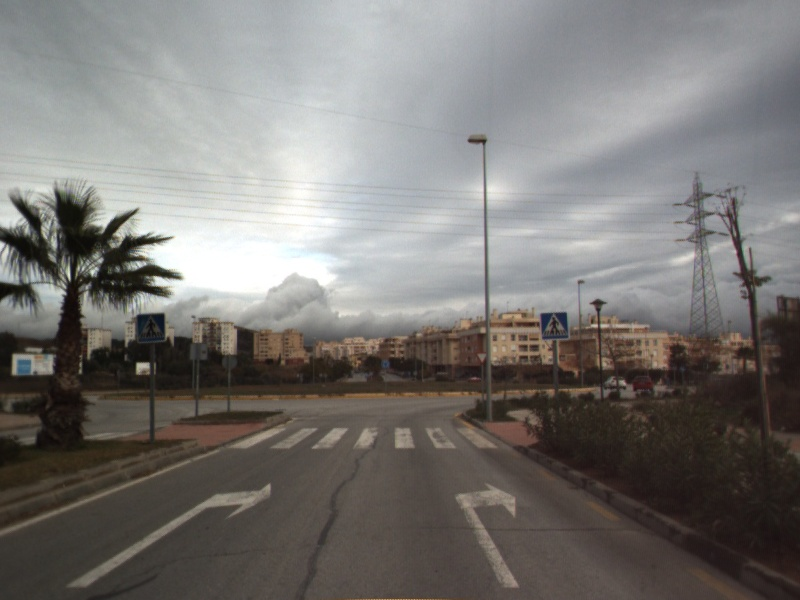RIGHT: (64, 481, 273, 590), (452, 480, 521, 589)
